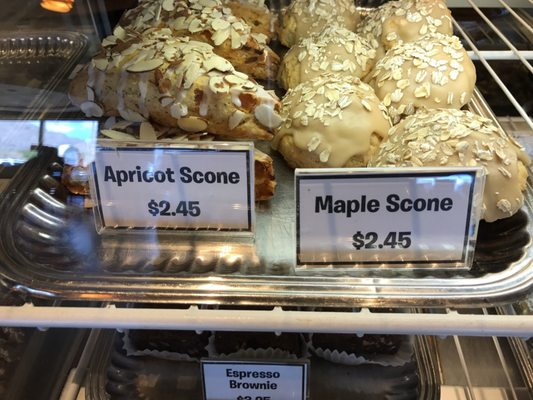salad: (369, 107, 532, 225), (272, 73, 391, 169), (278, 26, 380, 94)
